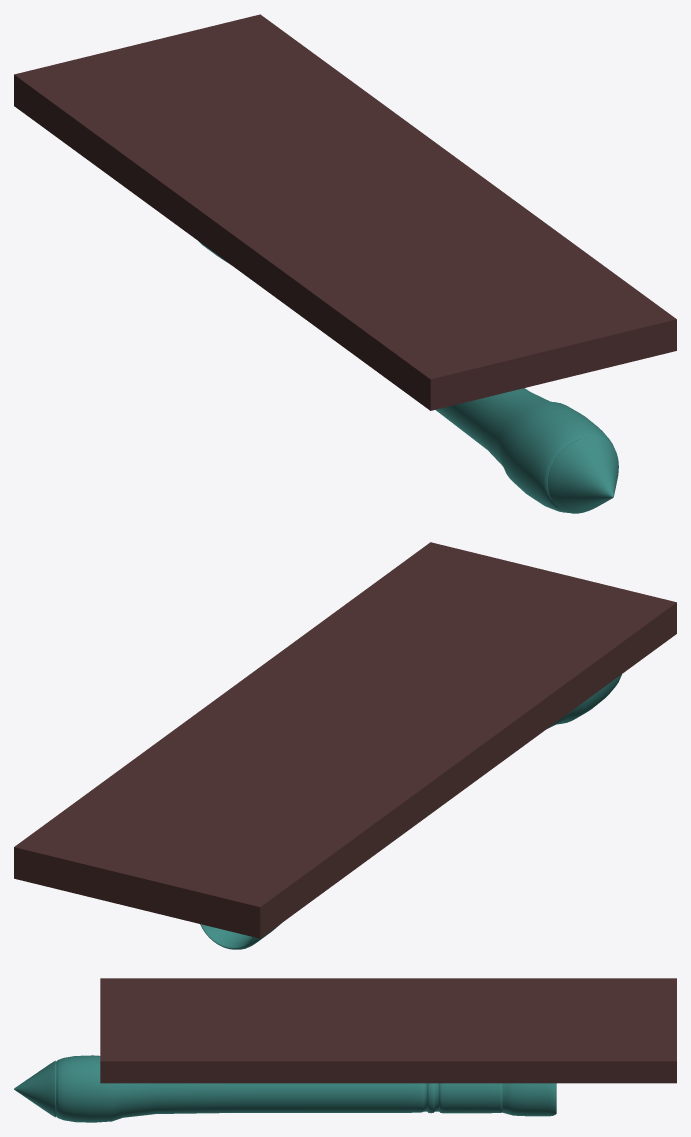
Rendered from BombMissle.fbx.
3 views of the same model, one above another, from view 1: azimuth 30°, elevation 25°; view 2: azimuth 150°, elevation 25°; view 3: azimuth 270°, elevation 25° (orthographic). The views are drawn at different scales.
Visible parts, largest first — view 1: BomberHolder, BombeMissile; view 2: BomberHolder, BombeMissile; view 3: BomberHolder, BombeMissile.
Part boxes in pixels (x1,y1,x2,y2): BomberHolder: [14, 14, 676, 410]; BombeMissile: [198, 241, 618, 513]; BomberHolder: [14, 542, 676, 938]; BombeMissile: [200, 674, 621, 949]; BomberHolder: [100, 978, 676, 1083]; BombeMissile: [14, 1055, 556, 1122].
Size of the model in its own units: 8.18 by 4.62 by 27.53.
